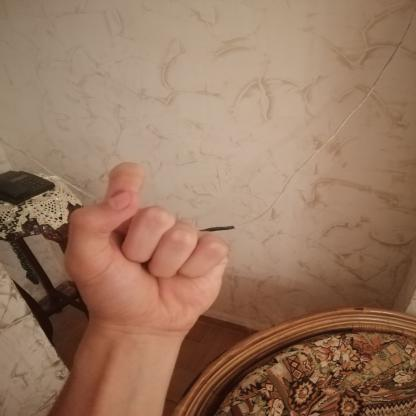FAA: (45, 153, 242, 343)
